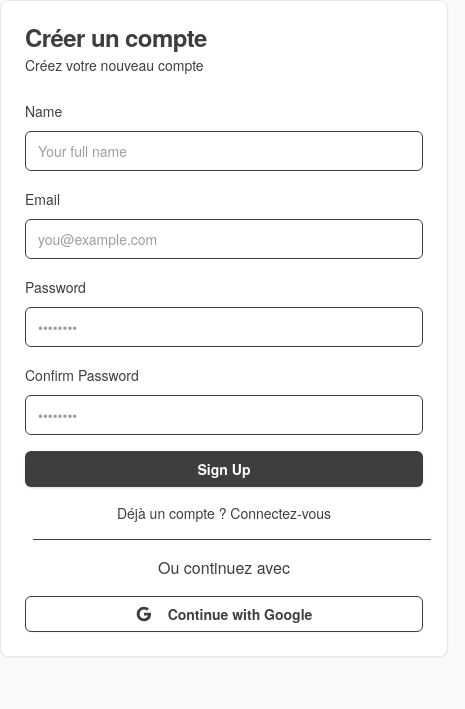
SignUpForm Component › Form Validation › should show validation errors for empty required fields
The image size is (465, 709).
Click the button "Sign Up".
click(224, 469)  # box [25, 451, 423, 487]
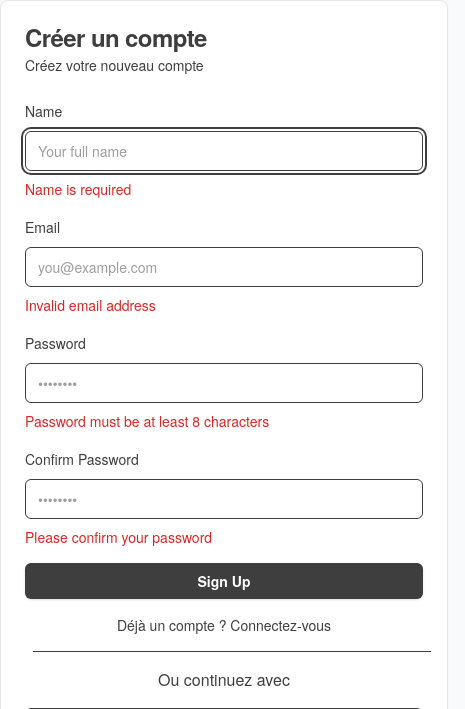
Expected: the text "Name is required" is shown, [25, 179, 131, 199]
Expected: the text "Invalid email address" is shown, [25, 295, 156, 315]
Expected: the text "Password must be at least 8 characters" is shown, [25, 411, 269, 431]
